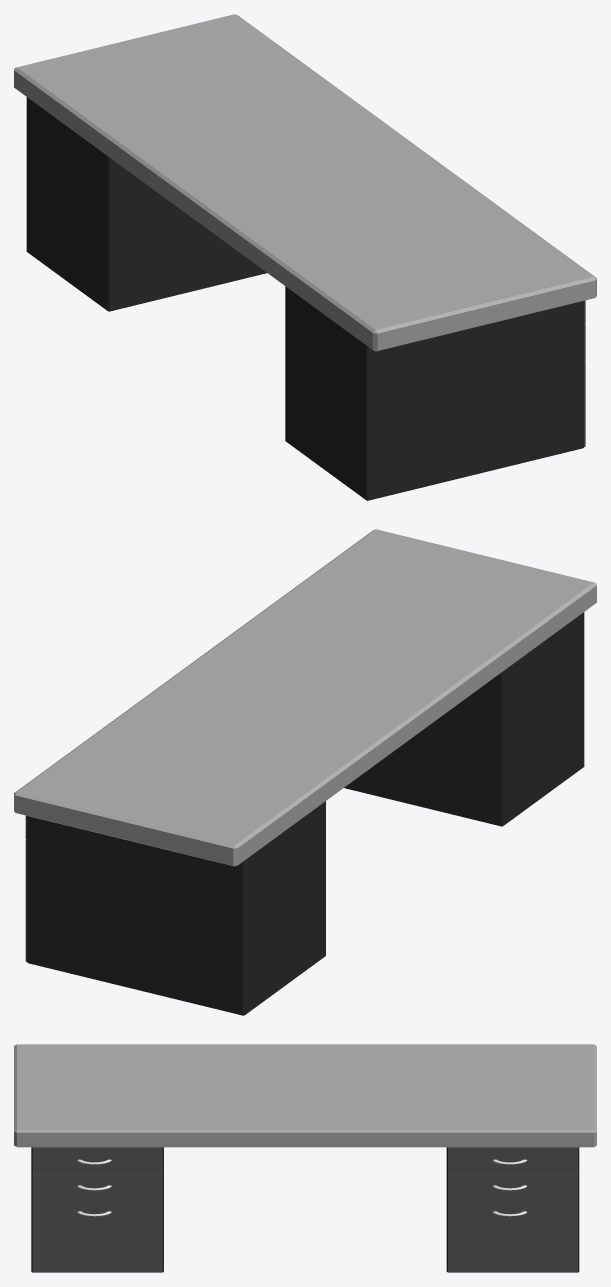
File: BiggerDesk.fbx
The picture shows the model from 3 angles, top to bottom: view 1: azimuth 30°, elevation 25°; view 2: azimuth 150°, elevation 25°; view 3: azimuth 270°, elevation 25°; orthographic projection. The views are drawn at different scales.
Parts seen in each view (by area): view 1: BiggerDesk; view 2: BiggerDesk; view 3: BiggerDesk.
Boxes of the visible parts, box(x1,y1,x2,y2) form: BiggerDesk: box(14, 14, 596, 500); BiggerDesk: box(14, 529, 596, 1015); BiggerDesk: box(14, 1044, 596, 1272).
Bounding box in the file's own units: 450 × 330 × 1216.
